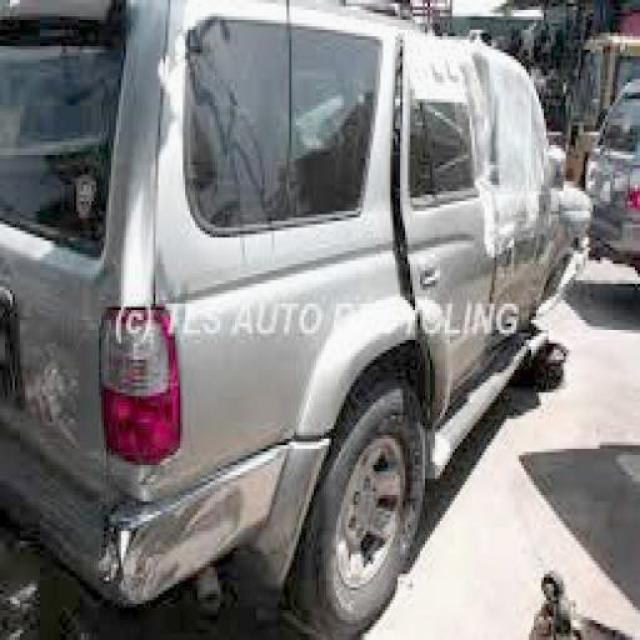car damage: (90, 459, 259, 596), (26, 334, 90, 449)
